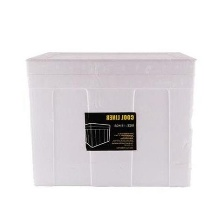foam_box: (23, 47, 202, 191)
